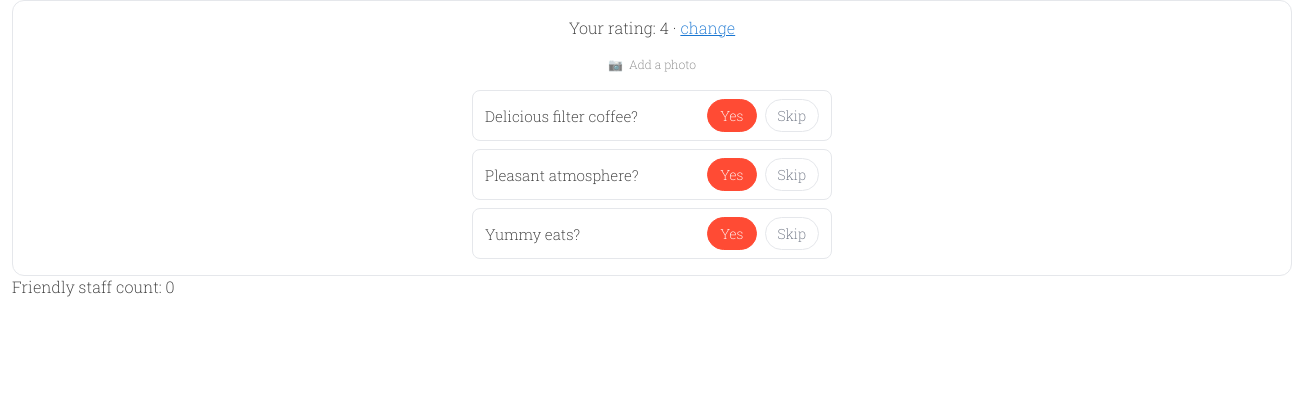
Test case: RateBlock › explains a Yes blocked by reCAPTCHA
Click the button "Yes" next to "Yummy eats?" at (732, 234), box [707,217,756,250]
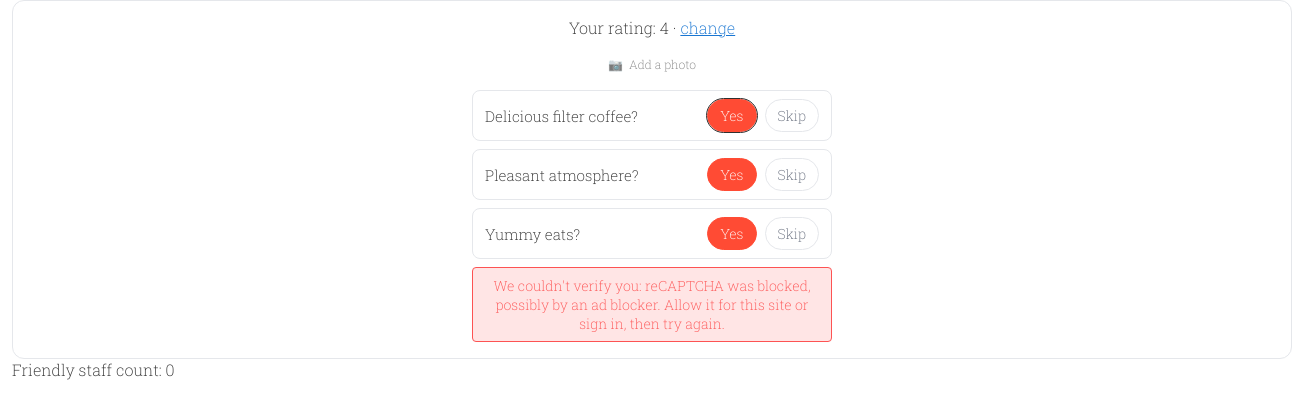
Expected: the text "Yummy eats?" is shown, [485,224,580,244]
Expected: the 2nd message shows "ad blocker", [493,276,811,333]
